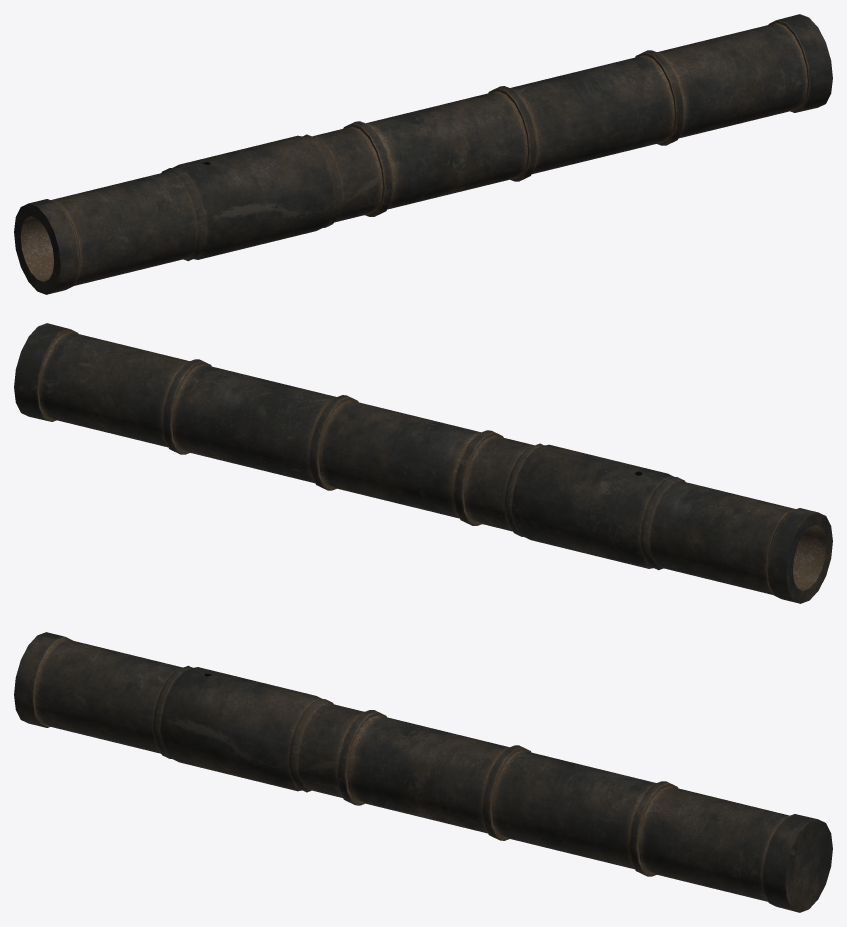
File: SM_Four_Chongtong_Gun.fbx
The picture shows the model from 3 angles, top to bottom: view 1: azimuth 30°, elevation 25°; view 2: azimuth 150°, elevation 25°; view 3: azimuth 330°, elevation 25°; orthographic projection.
Visible parts, largest first — view 1: SM_Four_Chongtong_Gun; view 2: SM_Four_Chongtong_Gun; view 3: SM_Four_Chongtong_Gun.
Boxes of the visible parts, <box> form: SM_Four_Chongtong_Gun: <box>14,14,832,294</box>; SM_Four_Chongtong_Gun: <box>14,323,832,603</box>; SM_Four_Chongtong_Gun: <box>14,632,832,912</box>.
Size of the model in its own units: 25.93 by 2.84 by 2.84.
Materials: 1 (1 with a texture image).
